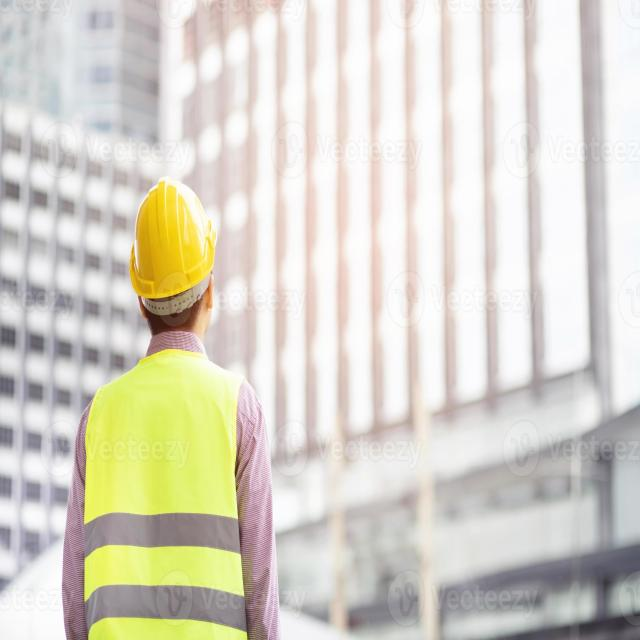Reflective-Jacket: (75, 344, 257, 640)
Safety-Helmet: (126, 168, 220, 304)
